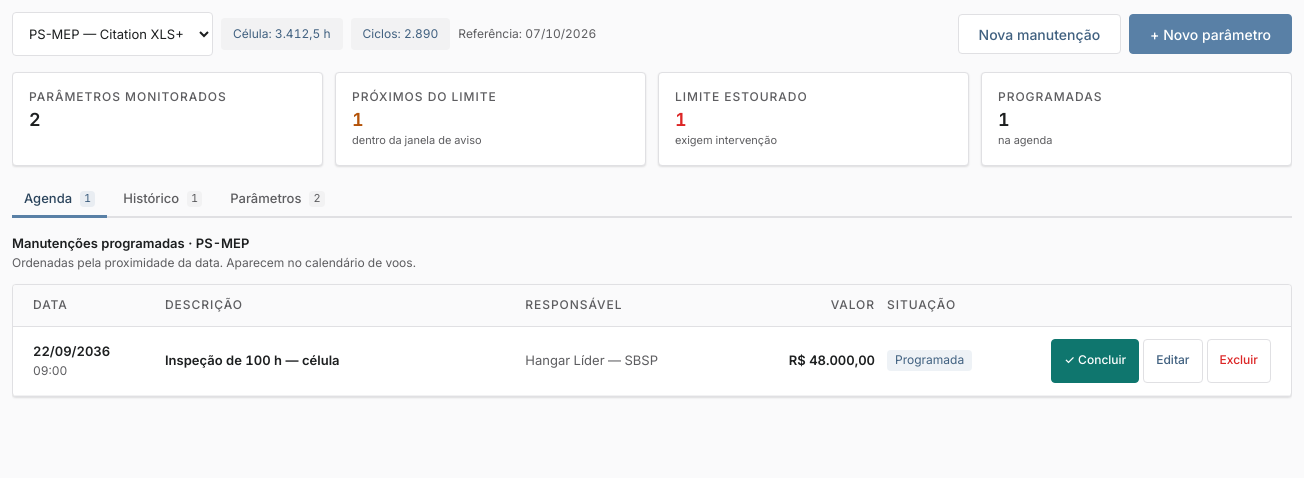
PaginaDeManutencao › a aba de parâmetros julga cada um com a consequência em palavras
This screenshot has width=1304, height=478.
Click the tab "Parâmetros 2" at (277, 200), box [218,182,337,218]
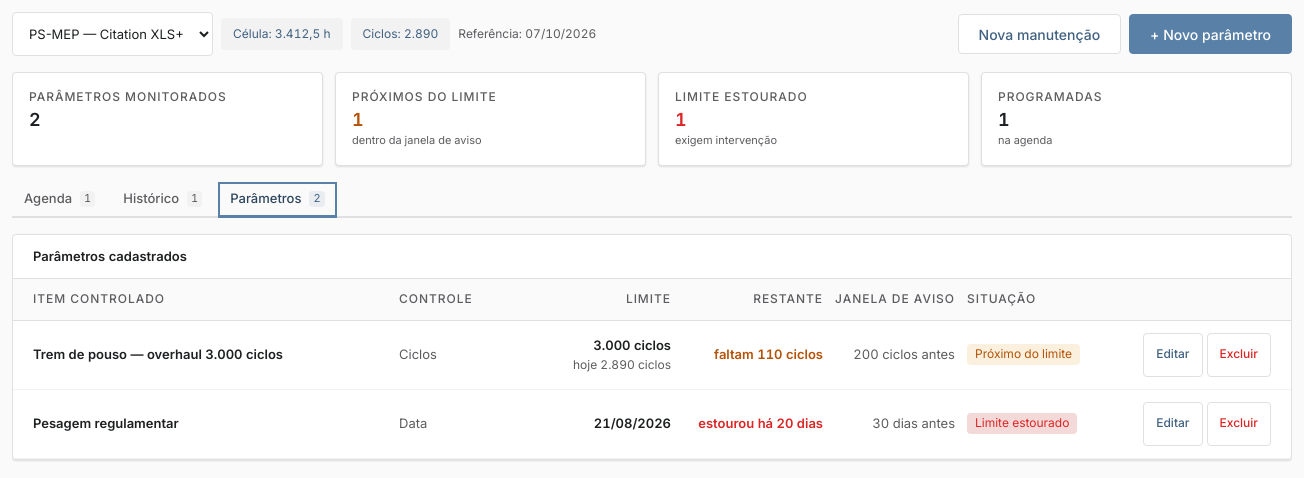
Now the text "Trem de pouso — overhaul 3.000 ciclos" is shown, box [33,346,283,362]
Now the text "Próximo do limite" is shown, box [967,344,1080,365]
Now the text "faltam 110 ciclos" is shown, box [714,346,823,362]
